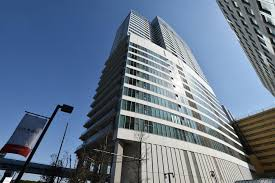Sky Building: (85, 9, 235, 177)
